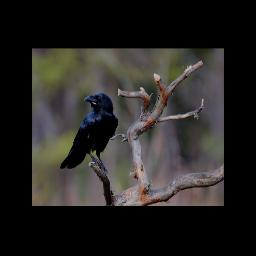Crow: (58, 92, 118, 173)
